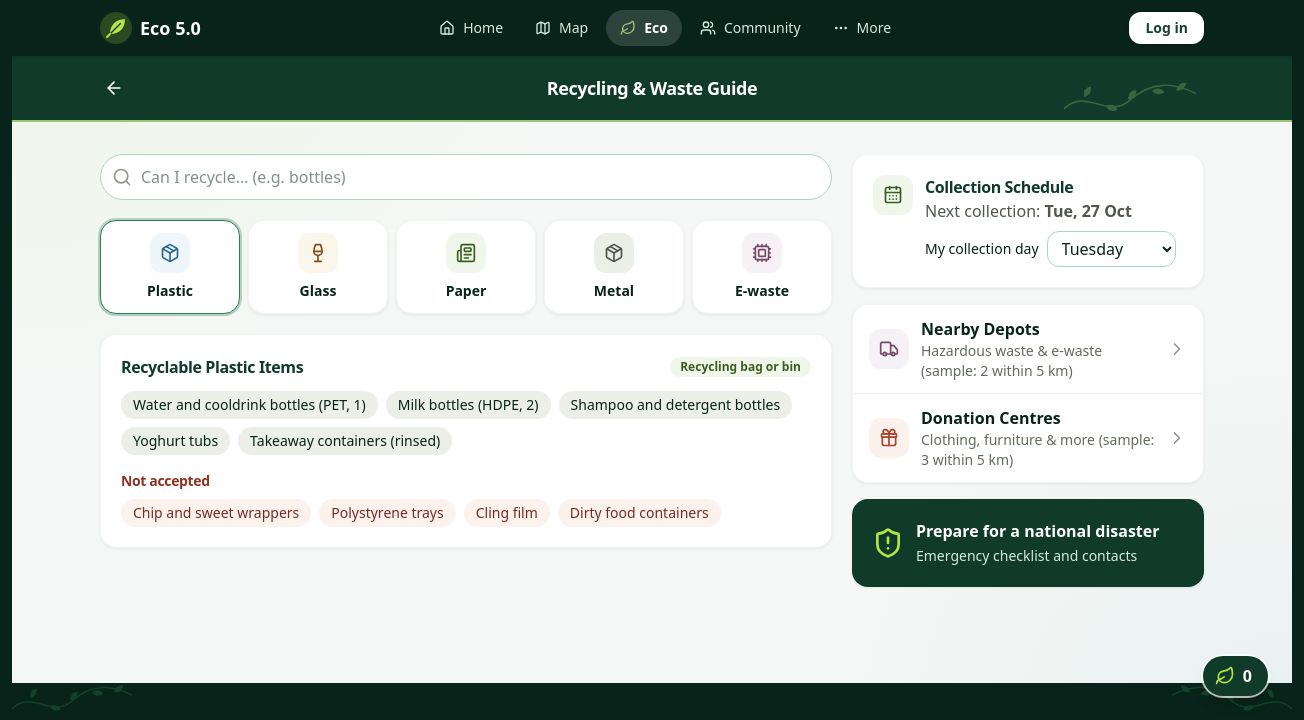
Scenario: Recycling & Waste Guide (/eco/recycling) › shows what each material takes
The image size is (1304, 720).
Expected: the heading "Recyclable Plastic Items" is shown, [121,355,303,379]
Click the button "Glass". click: (318, 267)
box: [248,220,388,314]
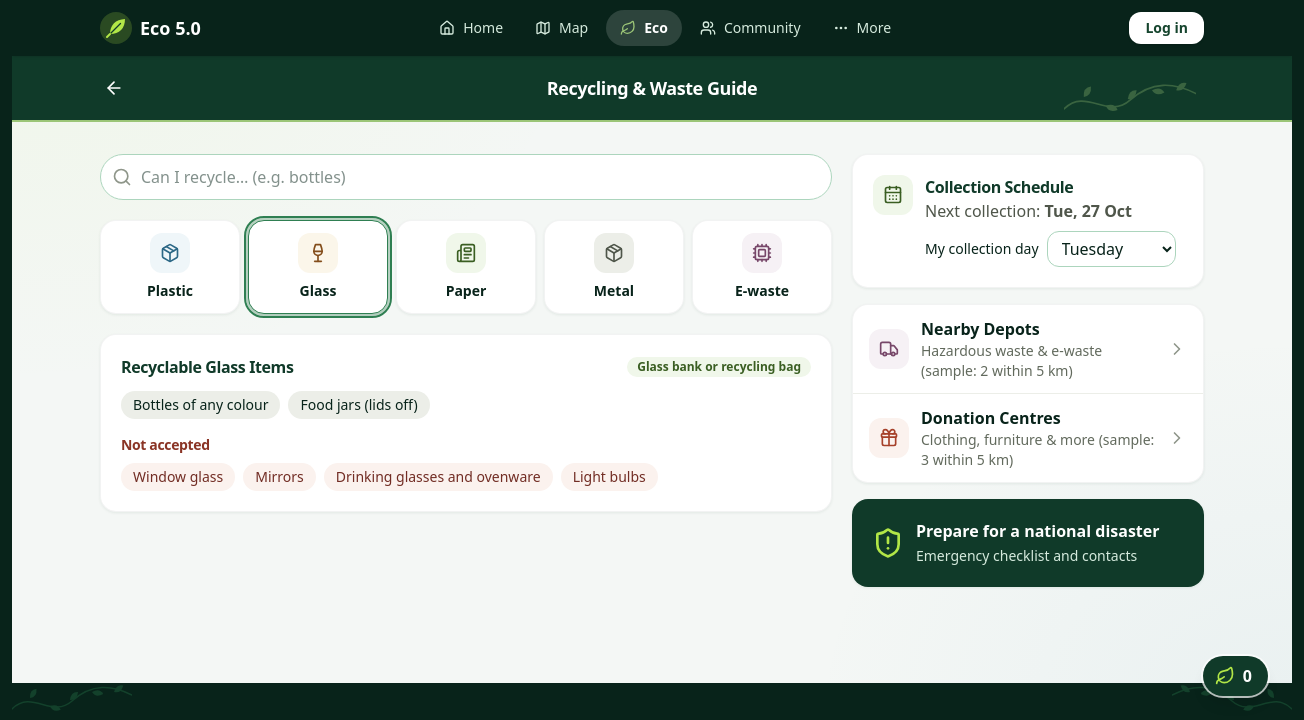
Result: the heading "Recyclable Glass Items" is shown at [121,355,294,379]
Result: the list item "Mirrors" is shown at [243,463,316,491]
